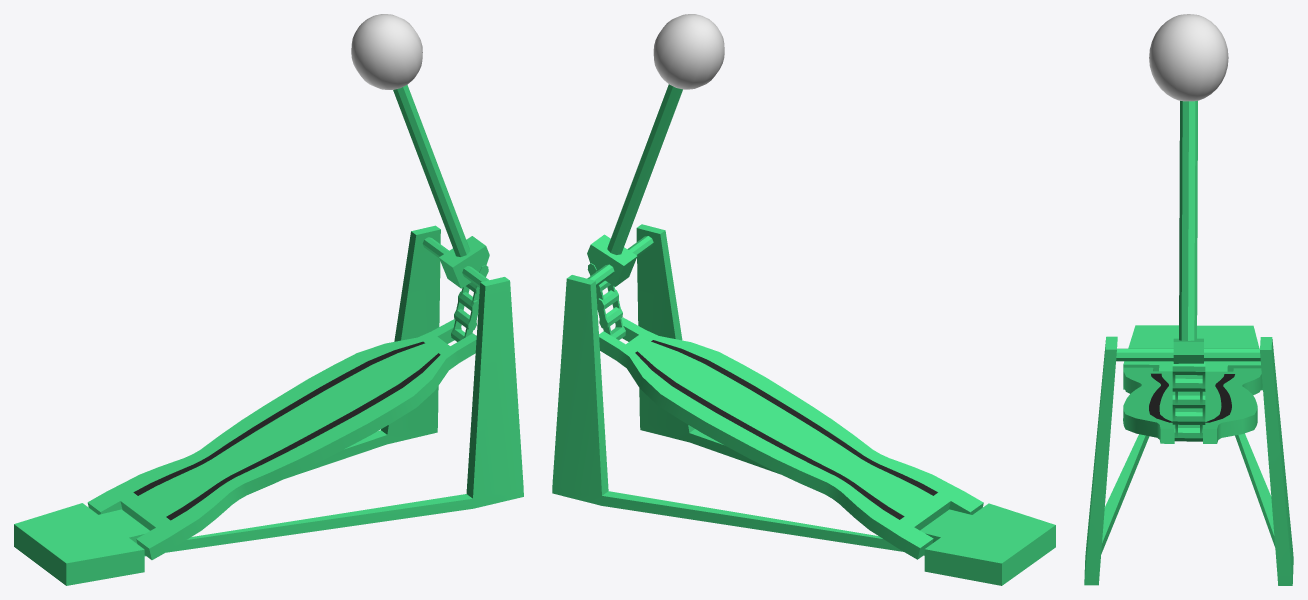
The model's file is Drumkit_Bass_Pedal_HP.fbx.
The picture shows the model from 3 angles, left to right: view 1: azimuth 30°, elevation 25°; view 2: azimuth 150°, elevation 25°; view 3: azimuth 270°, elevation 25°; orthographic projection. The views are drawn at different scales.
Parts seen in each view (by area): view 1: Pedal_HP; view 2: Pedal_HP; view 3: Pedal_HP.
Boxes of the visible parts, left/top/right/bottom form: Pedal_HP: left=14, top=14, right=523, bottom=585; Pedal_HP: left=552, top=14, right=1055, bottom=585; Pedal_HP: left=1084, top=14, right=1293, bottom=585.
Size of the model in its own units: 2499 by 2535 by 928.
